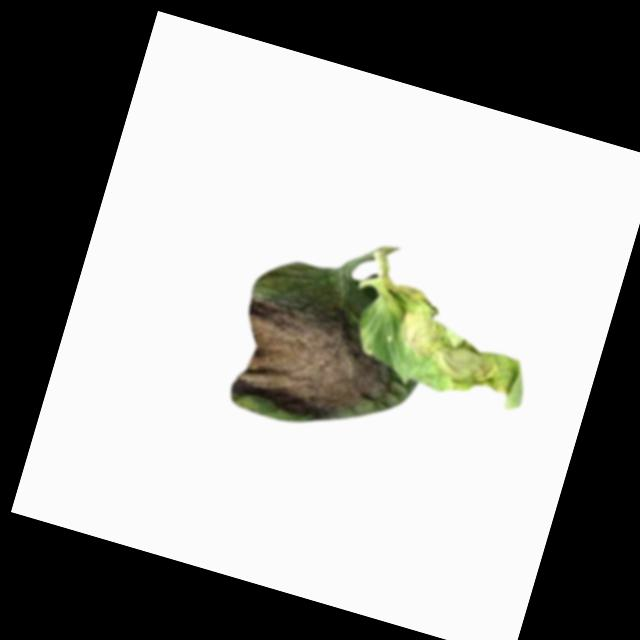Late_blight: (221, 282, 408, 440), (363, 279, 545, 416)
